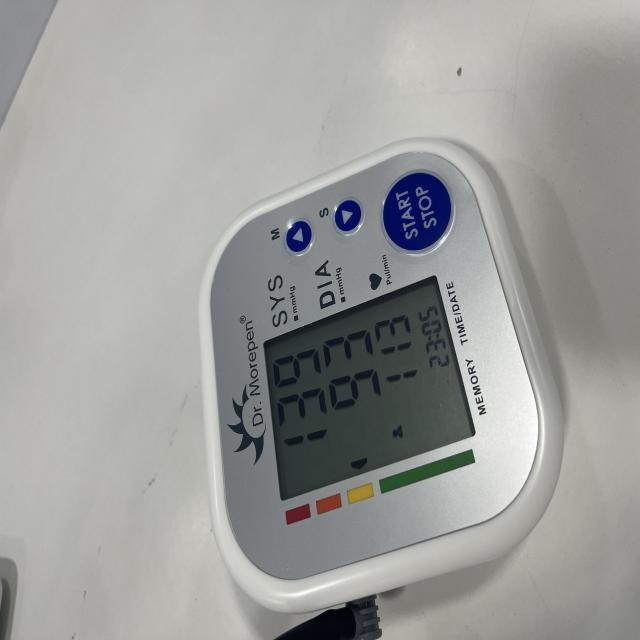bp: (196, 140, 548, 617)
